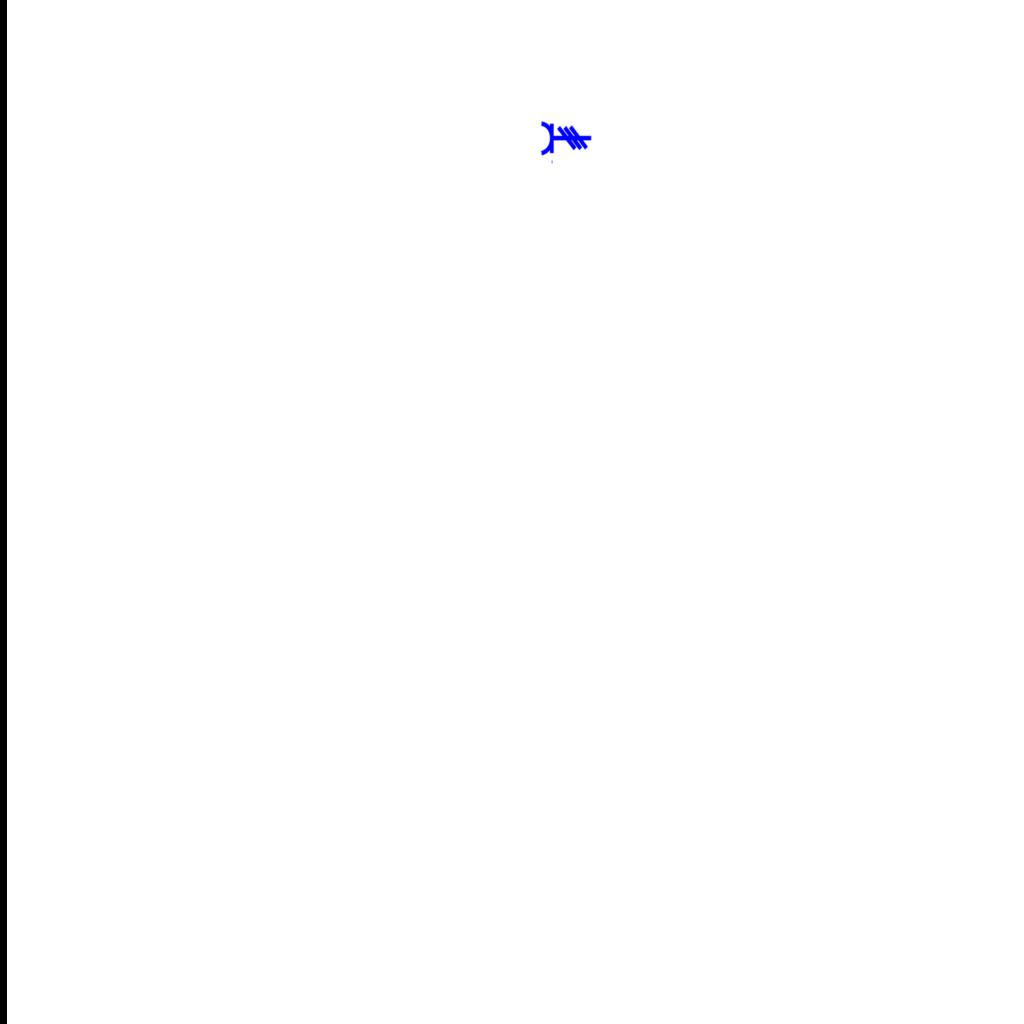CEE_Drehstrom_Steckdose_16_32_A: (540, 120, 592, 165)
